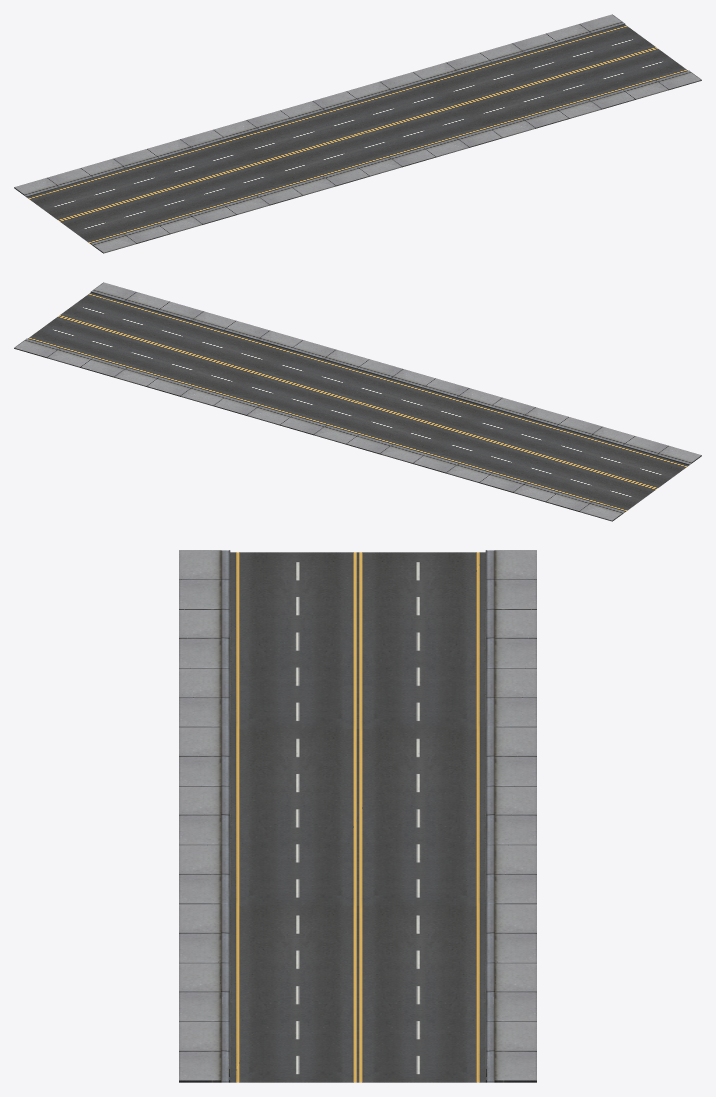
The model's file is road10.glb.
3 renders of one model, top to bottom at view 1: azimuth 30°, elevation 25°; view 2: azimuth 150°, elevation 25°; view 3: azimuth 270°, elevation 25°, orthographic. The views are drawn at different scales.
Parts seen in each view (by area): view 1: ro_10; view 2: ro_10; view 3: ro_10.
Part boxes in pixels (x1=…): ro_10: x1=14, y1=14, x2=701, y2=253; ro_10: x1=14, y1=282, x2=701, y2=521; ro_10: x1=179, y1=550, x2=536, y2=1082.
Size of the model in its own units: 117 by 5.19 by 30.33.
1 material, 1 textured.
